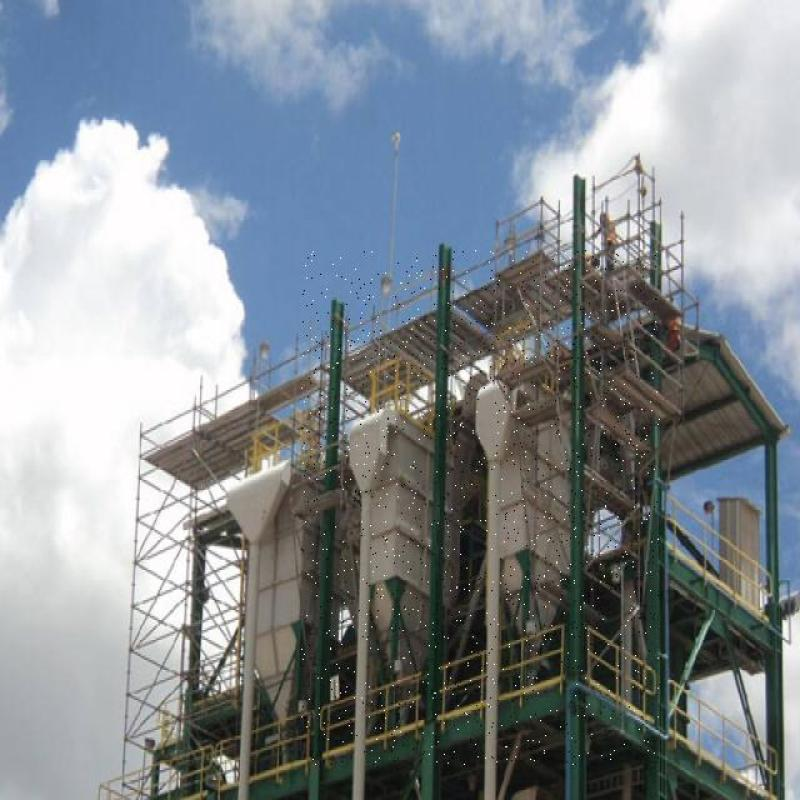Healthy: (352, 412, 681, 618)
